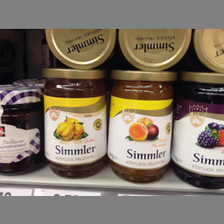jam: (107, 69, 177, 184), (41, 67, 109, 179), (172, 69, 224, 190), (1, 82, 42, 176)
